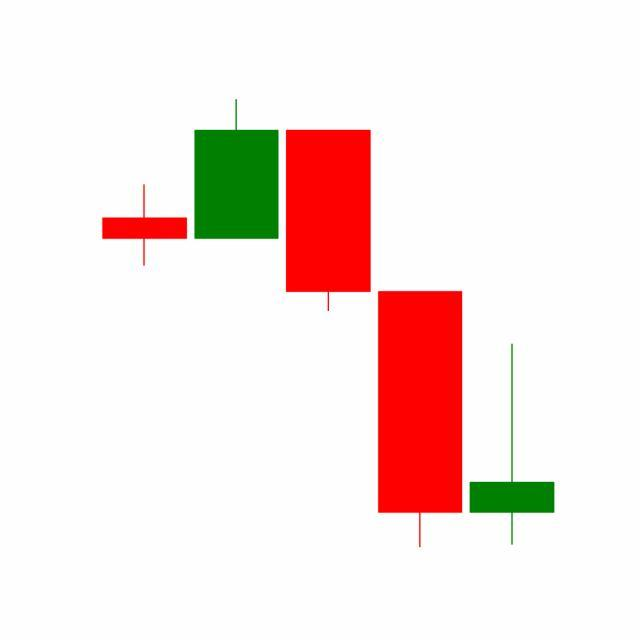Spinning Top: (466, 341, 559, 547)
